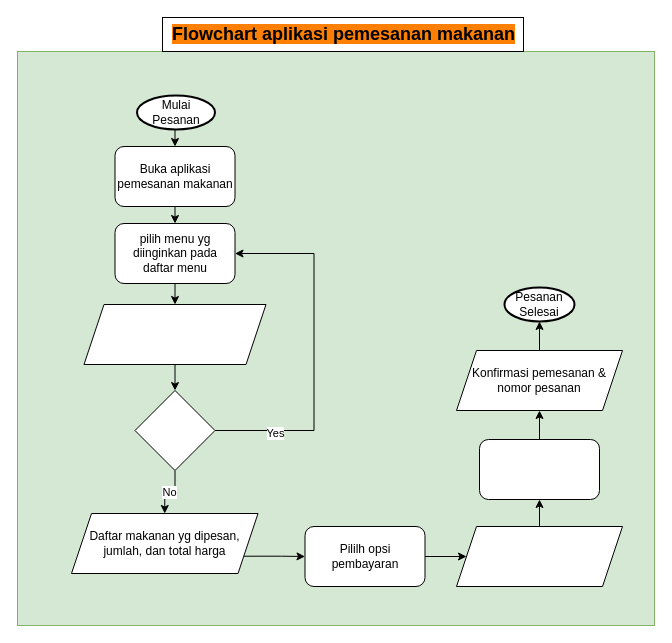
The diagram is 672 pixels wide and 643 high, and some of its shapes have lost their labels. The centre of each missing label's shape, as x and y in pixels:
"Informasi pembayaran" belongs at point (539, 556).
"jumlah, jenis, dan harga makanan." belongs at point (174, 334).
"Lanjutkan pemesanan?" belongs at point (174, 430).
"Proses pembayaran" belongs at point (539, 469).
